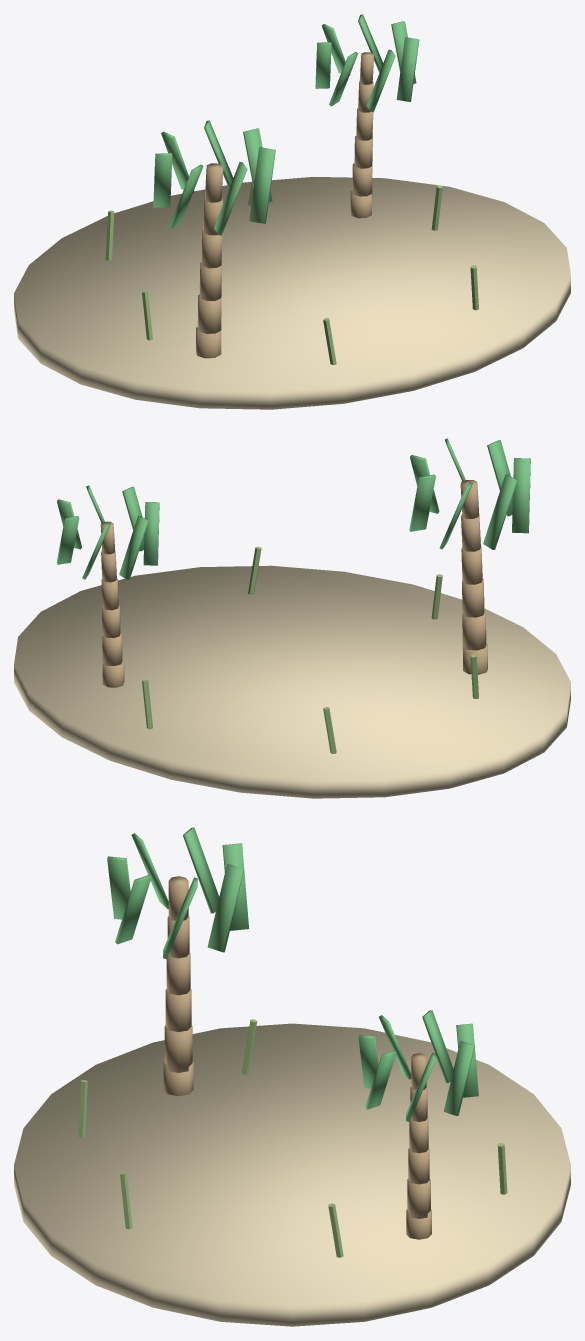
Rendered from oasis.glb.
3 views of the same model, one above another, from view 1: azimuth 30°, elevation 25°; view 2: azimuth 150°, elevation 25°; view 3: azimuth 270°, elevation 25° (orthographic). The views are drawn at different scales.
Visible parts, largest first — view 1: Bank, Plane.006, Plane.003, Plane.013, Tr.001, Plane.005, Tr.002, Plane.010, Tr.003, Tr.005, Plane.004, Plane.002 (+10 smaller); view 2: Bank, Plane.004, Plane.003, Plane.001, Plane.011, Tr.001, Plane.010, Tr.002, Plane.008, Tr.003, Plane.005, Tr.004 (+8 smaller); view 3: Bank, Plane.001, Plane.008, Tr.001, Plane.003, Plane.006, Plane.005, Plane.002, Tr.002, Tr.003, Plane.010, Plane.013 (+10 smaller).
Boxes of the visible parts, left/top/right/bottom form: Bank: left=14, top=177, right=570, bottom=409; Plane.006: left=249, top=147, right=275, bottom=223; Plane.003: left=153, top=153, right=172, bottom=207; Plane.013: left=396, top=37, right=419, bottom=101; Tr.001: left=197, top=294, right=221, bottom=333; Plane.005: left=214, top=162, right=247, bottom=235; Tr.002: left=199, top=262, right=222, bottom=300; Plane.010: left=315, top=42, right=331, bottom=88; Tr.003: left=201, top=230, right=222, bottom=268; Tr.005: left=205, top=163, right=223, bottom=202; Plane.004: left=169, top=164, right=203, bottom=228; Plane.002: left=161, top=131, right=194, bottom=192; Bank: left=14, top=565, right=570, bottom=798; Plane.004: left=512, top=458, right=530, bottom=533; Plane.003: left=483, top=474, right=517, bottom=549; Plane.001: left=409, top=474, right=435, bottom=531; Plane.011: left=143, top=502, right=159, bottom=565; Tr.001: left=462, top=611, right=486, bottom=650; Plane.010: left=119, top=515, right=148, bottom=579; Tr.002: left=462, top=579, right=484, bottom=617; Plane.008: left=56, top=516, right=79, bottom=564; Tr.003: left=461, top=546, right=482, bottom=584; Plane.005: left=487, top=440, right=512, bottom=516; Tr.004: left=461, top=514, right=480, bottom=551; Bank: left=14, top=1023, right=570, bottom=1326; Plane.001: left=207, top=864, right=244, bottom=952; Plane.008: left=443, top=1041, right=474, bottom=1115; Tr.001: left=164, top=1025, right=192, bottom=1072; Plane.003: left=183, top=827, right=219, bottom=913; Plane.006: left=115, top=874, right=151, bottom=944; Plane.005: left=107, top=856, right=130, bottom=919; Plane.002: left=222, top=843, right=248, bottom=930; Tr.002: left=165, top=989, right=191, bottom=1032; Tr.003: left=166, top=953, right=190, bottom=995; Plane.010: left=422, top=1010, right=453, bottom=1083; Plane.013: left=365, top=1050, right=396, bottom=1109.
Size of the model in its own units: 5.28 by 2.24 by 4.4.
